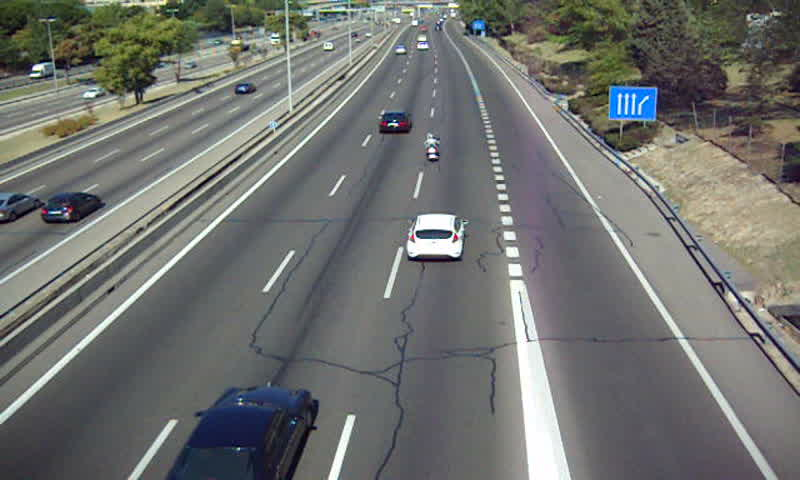car: (163, 387, 310, 480), (406, 214, 466, 261), (377, 111, 413, 135)
motorcycle: (422, 134, 442, 162)
